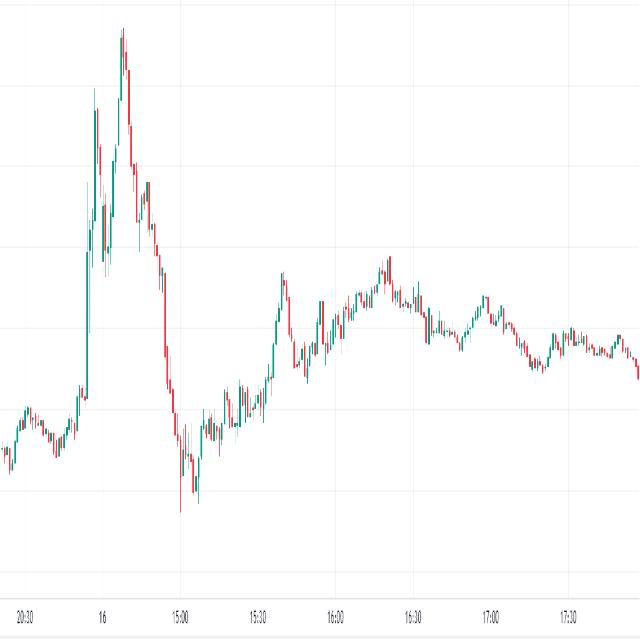Head-Shoulders: (78, 16, 179, 418)
